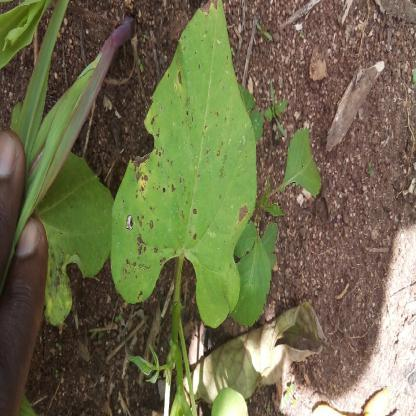Beans_Angular_LeafSpot: (228, 3, 416, 149), (62, 232, 316, 304)
